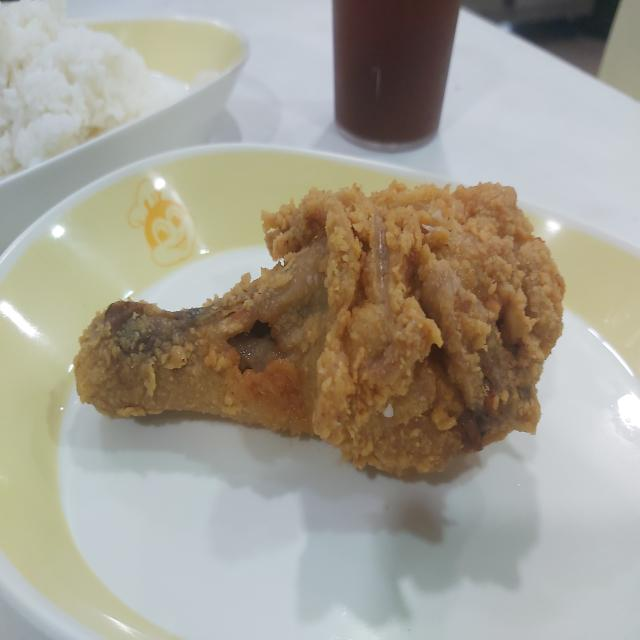Chicken -Fried Chicken-: (60, 169, 579, 496)
